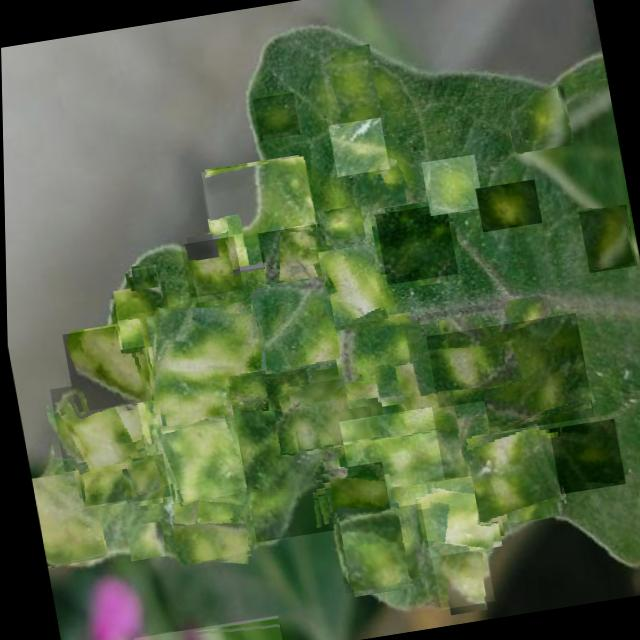leaf_spot: (225, 364, 333, 542), (137, 294, 276, 431), (469, 312, 593, 432), (200, 155, 321, 273), (337, 406, 446, 513), (397, 356, 469, 505), (150, 404, 252, 504), (462, 424, 564, 524), (48, 376, 146, 472), (248, 274, 340, 374), (332, 313, 428, 408), (61, 322, 152, 412), (286, 374, 376, 464), (162, 471, 252, 559), (330, 506, 418, 592), (29, 468, 104, 566), (415, 472, 500, 557), (256, 221, 341, 304), (425, 324, 509, 407), (374, 203, 457, 284), (317, 52, 397, 132), (316, 243, 384, 337), (547, 418, 624, 493), (504, 85, 573, 153), (321, 461, 390, 528), (169, 515, 252, 570), (109, 285, 173, 349), (429, 546, 493, 609), (578, 203, 636, 272), (130, 614, 281, 640), (179, 235, 242, 297), (420, 154, 483, 216), (354, 142, 416, 202), (328, 116, 389, 176), (474, 178, 541, 232), (73, 451, 130, 506), (502, 292, 558, 346), (117, 453, 168, 502), (252, 91, 300, 139), (319, 202, 363, 245), (123, 520, 164, 560), (126, 264, 159, 296)
